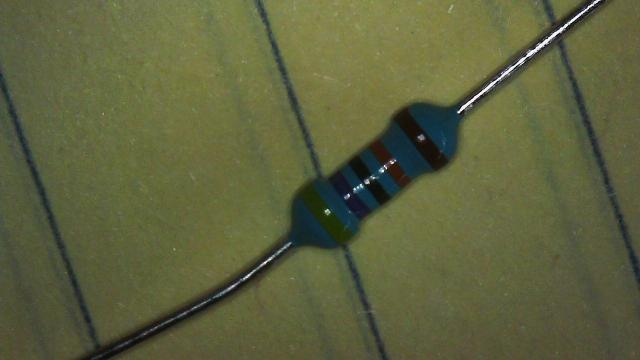black: (347, 156, 390, 204)
brown: (394, 108, 447, 170)
orange: (368, 140, 410, 188)
resistor: (258, 69, 494, 280)
violet: (329, 172, 369, 218)
yellow: (300, 184, 352, 244)
